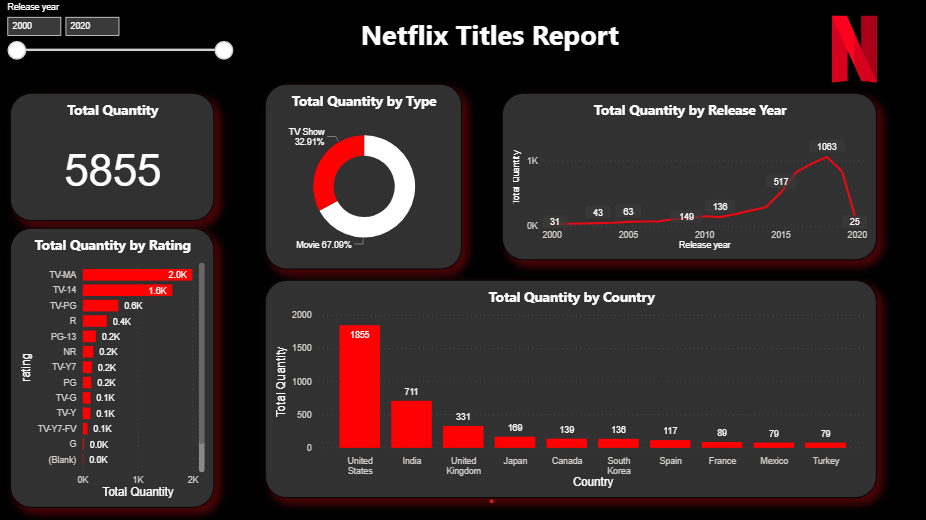

What the dashboard file says about the page in this screenshot:
{"tool":"powerbi","page":{"name":"Report","canvas":[1280,720],"ordinal":0},"visuals":[{"type":"card","title":"Total Quantity","fields":{"Values":["Netflix_Titles.Total_Quantity"]},"box":[16.5,130.8,280.8,176.2],"z":0},{"type":"donutChart","title":"Total Quantity by Type","fields":{"Y":["Netflix_Titles.Total_Quantity"],"Category":["Netflix_Titles.type"]},"box":[367.5,118.4,271.1,254.6],"z":1000},{"type":"clusteredBarChart","title":"Total Quantity by Rating","fields":{"Y":["Netflix_Titles.Total_Quantity"],"Category":["Netflix_Titles.rating"]},"box":[16.5,316.6,280.8,385.4],"z":2000},{"type":"clusteredColumnChart","title":"Total Quantity by Country","fields":{"Y":["Netflix_Titles.Total_Quantity"],"Category":["Netflix_Titles.country"]},"box":[367.5,388.1,842.3,300],"z":3000},{"type":"lineClusteredColumnComboChart","title":"Total Quantity by Release Year","fields":{"Y2":["Netflix_Titles.Total_Quantity"],"Category":["Netflix_Titles.release_year"]},"box":[693.7,130.8,516.1,229.8],"z":4000},{"type":"slicer","fields":{"Values":["Netflix_Titles.release_year"]},"box":[0,0,334.5,103.2],"z":5000},{"type":"textbox","box":[493.7,19.7,400.9,59.1],"z":5001},{"type":"image","box":[1077.7,19.3,202.3,101.8],"z":5002}]}

Visuals, with their boxes in screenshot pixels (x1, y1, x2, y2), scaled from the page's 1280x720 canvas onto the 926x520 screenshot:
"Total Quantity" card: bbox(12, 94, 215, 222)
"Total Quantity by Type" donutChart: bbox(266, 86, 462, 269)
"Total Quantity by Rating" clusteredBarChart: bbox(12, 229, 215, 507)
"Total Quantity by Country" clusteredColumnChart: bbox(266, 280, 875, 497)
"Total Quantity by Release Year" lineClusteredColumnComboChart: bbox(502, 94, 875, 260)
slicer - Netflix_Titles.release_year: bbox(0, 0, 242, 75)
textbox: bbox(357, 14, 647, 57)
image: bbox(780, 14, 925, 87)
